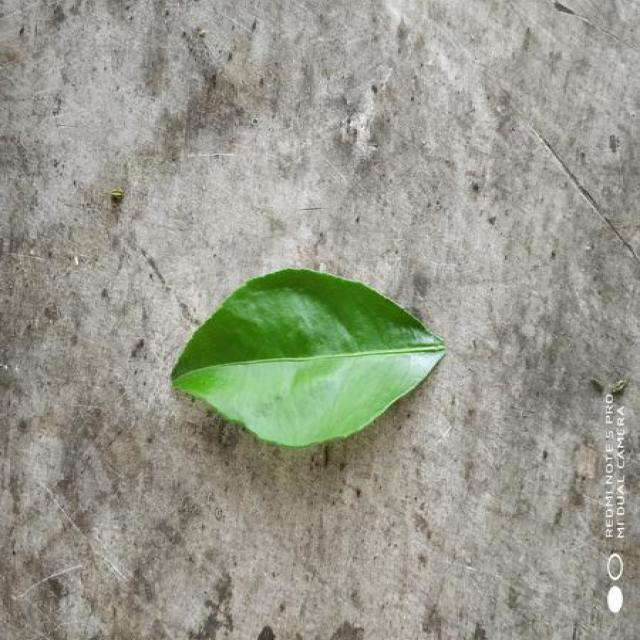citron lime: (172, 269, 445, 446)
